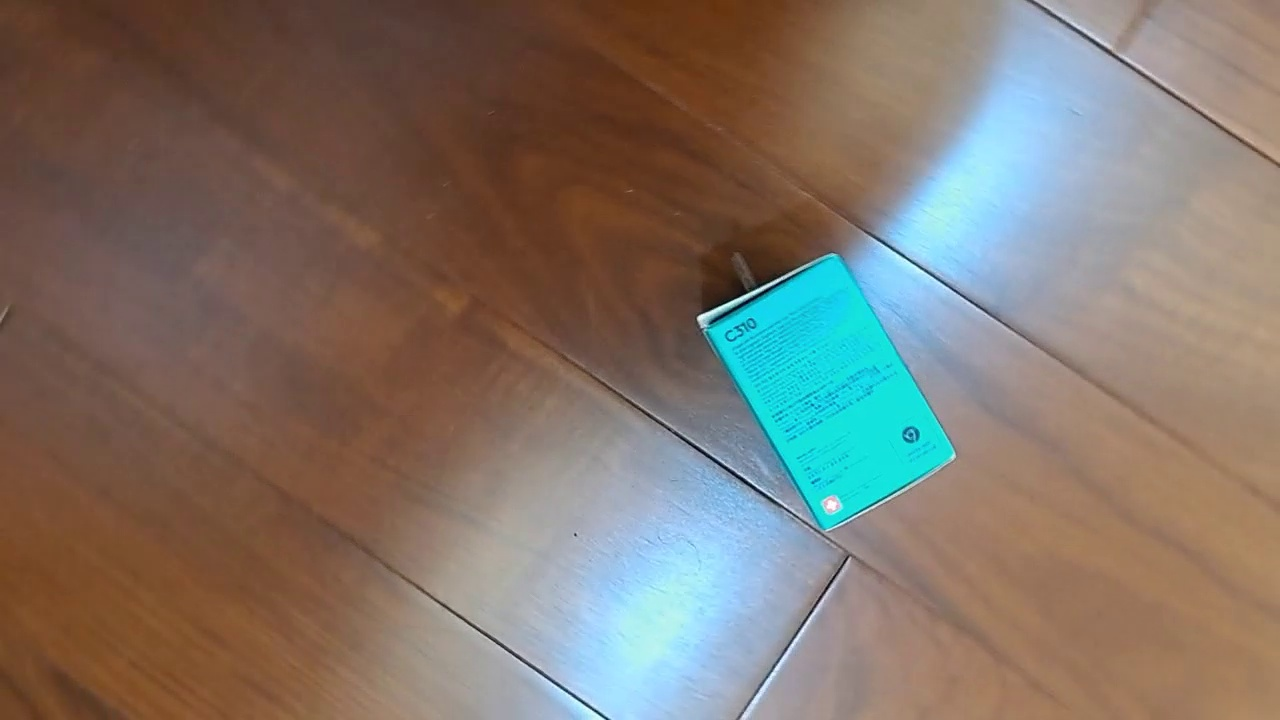webcam: (695, 252, 958, 533)
